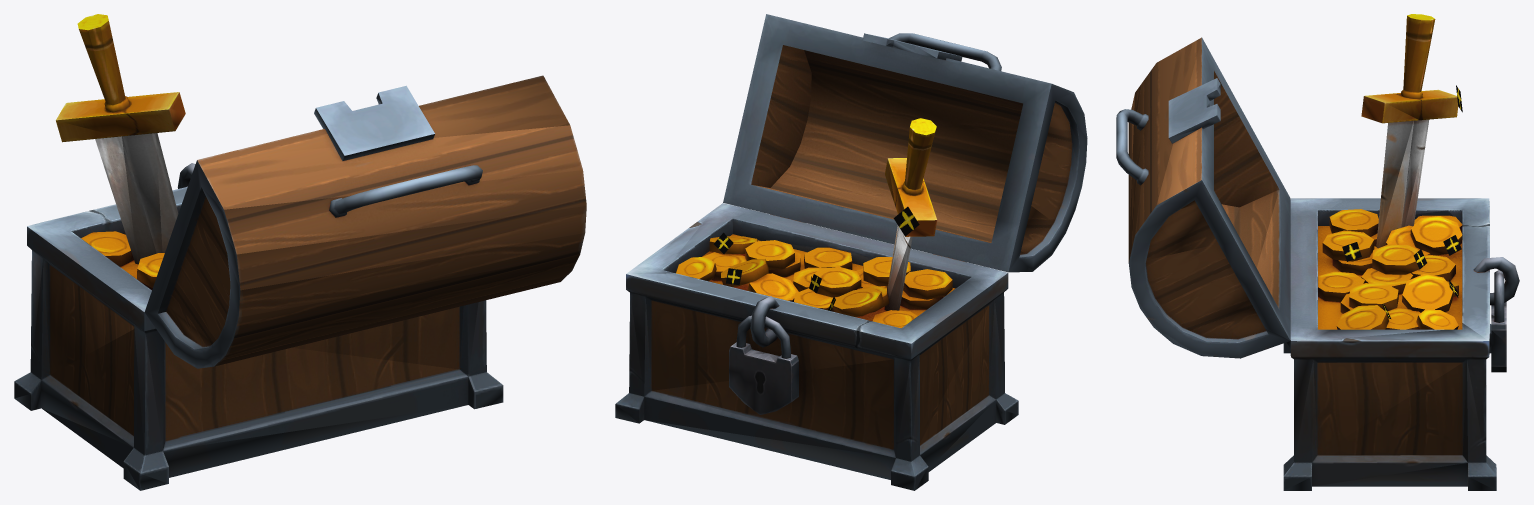
Rendered from ar_treasure_chest_0513a.gltf.
The picture shows the model from 3 angles, left to right: view 1: azimuth 30°, elevation 25°; view 2: azimuth 150°, elevation 25°; view 3: azimuth 270°, elevation 25°; orthographic projection. The views are drawn at different scales.
Parts seen in each view (by area): view 1: Chest; view 2: Chest; view 3: Chest.
Part boxes in pixels (x1,y1,x2,y2): Chest: (14,14,586,490); Chest: (615,14,1087,490); Chest: (1116,14,1519,490).
Bounding box in the file's own units: 47 × 50.04 × 53.61.
1 material, 1 textured.
